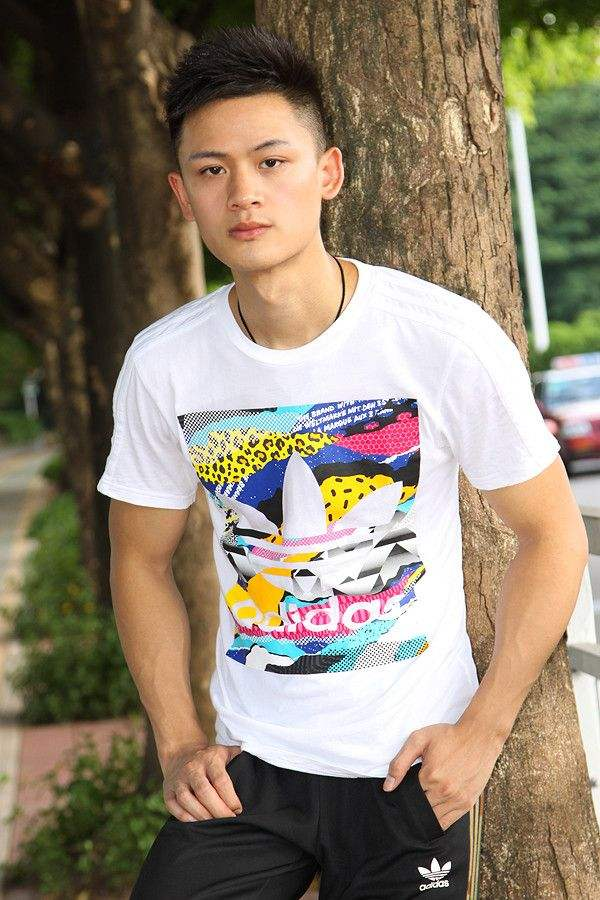person: (61, 53, 531, 846)
